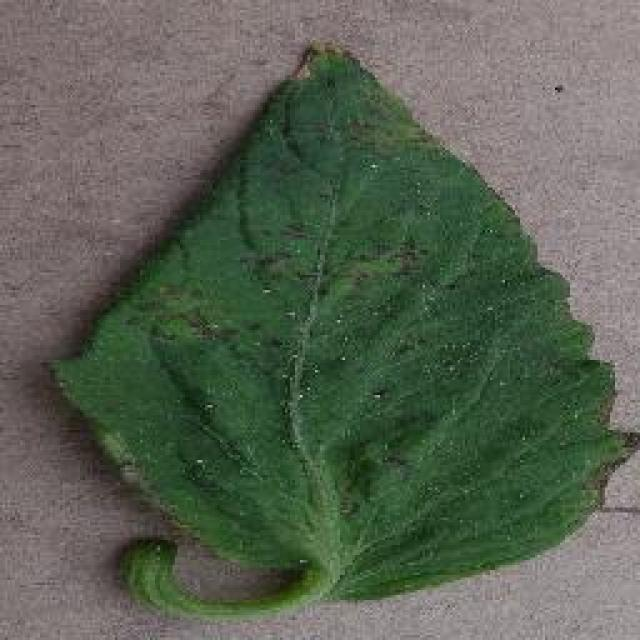Tomato bacterial spot leaf: (46, 36, 640, 591)
